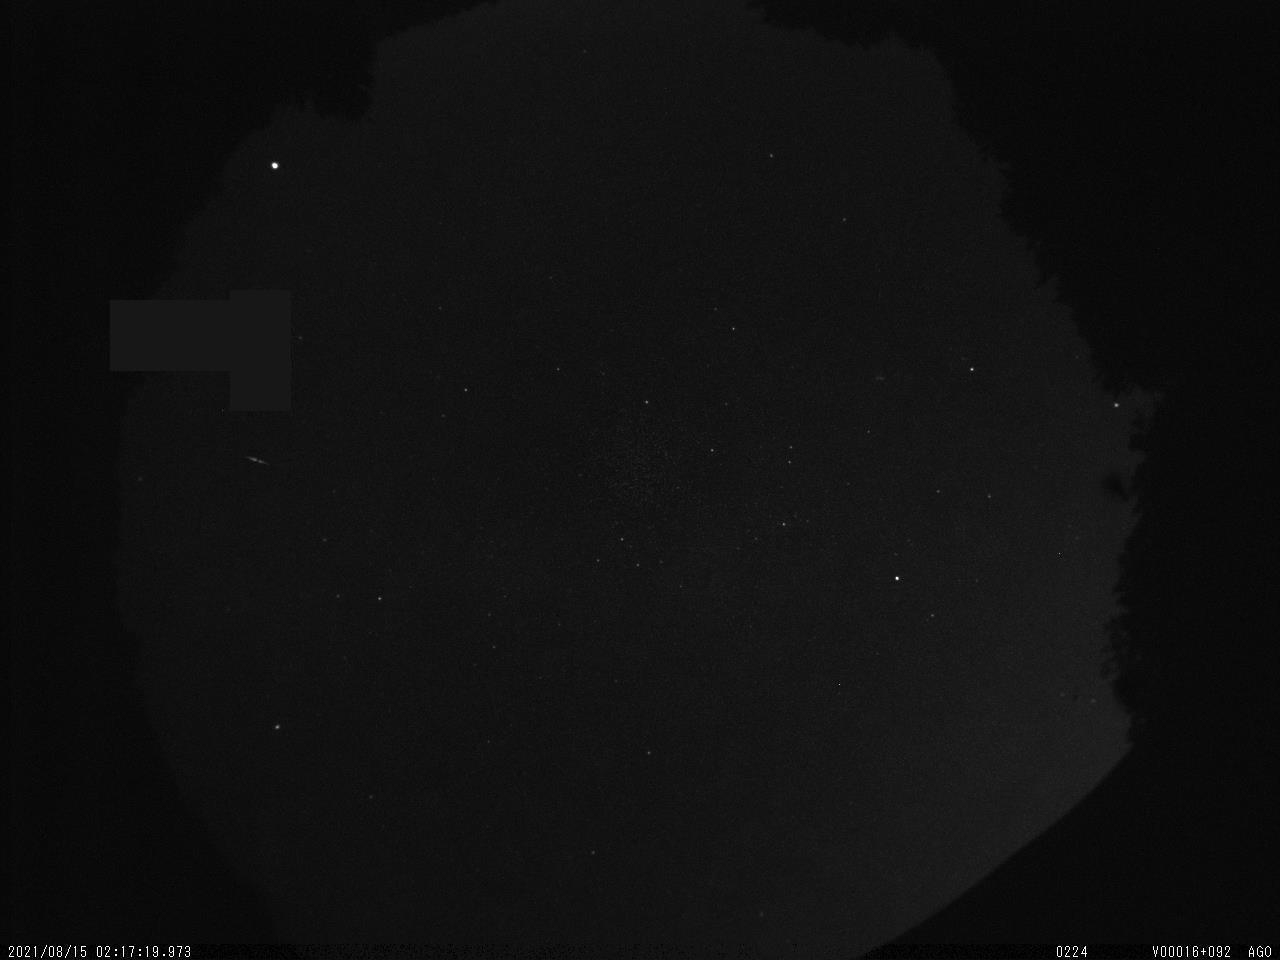Meteor: (243, 451, 269, 468)
